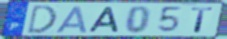0: (124, 5, 152, 35)
5: (156, 6, 182, 34)
A: (55, 5, 90, 34), (87, 6, 120, 33)
D: (25, 4, 59, 35)
T: (190, 7, 215, 34)
